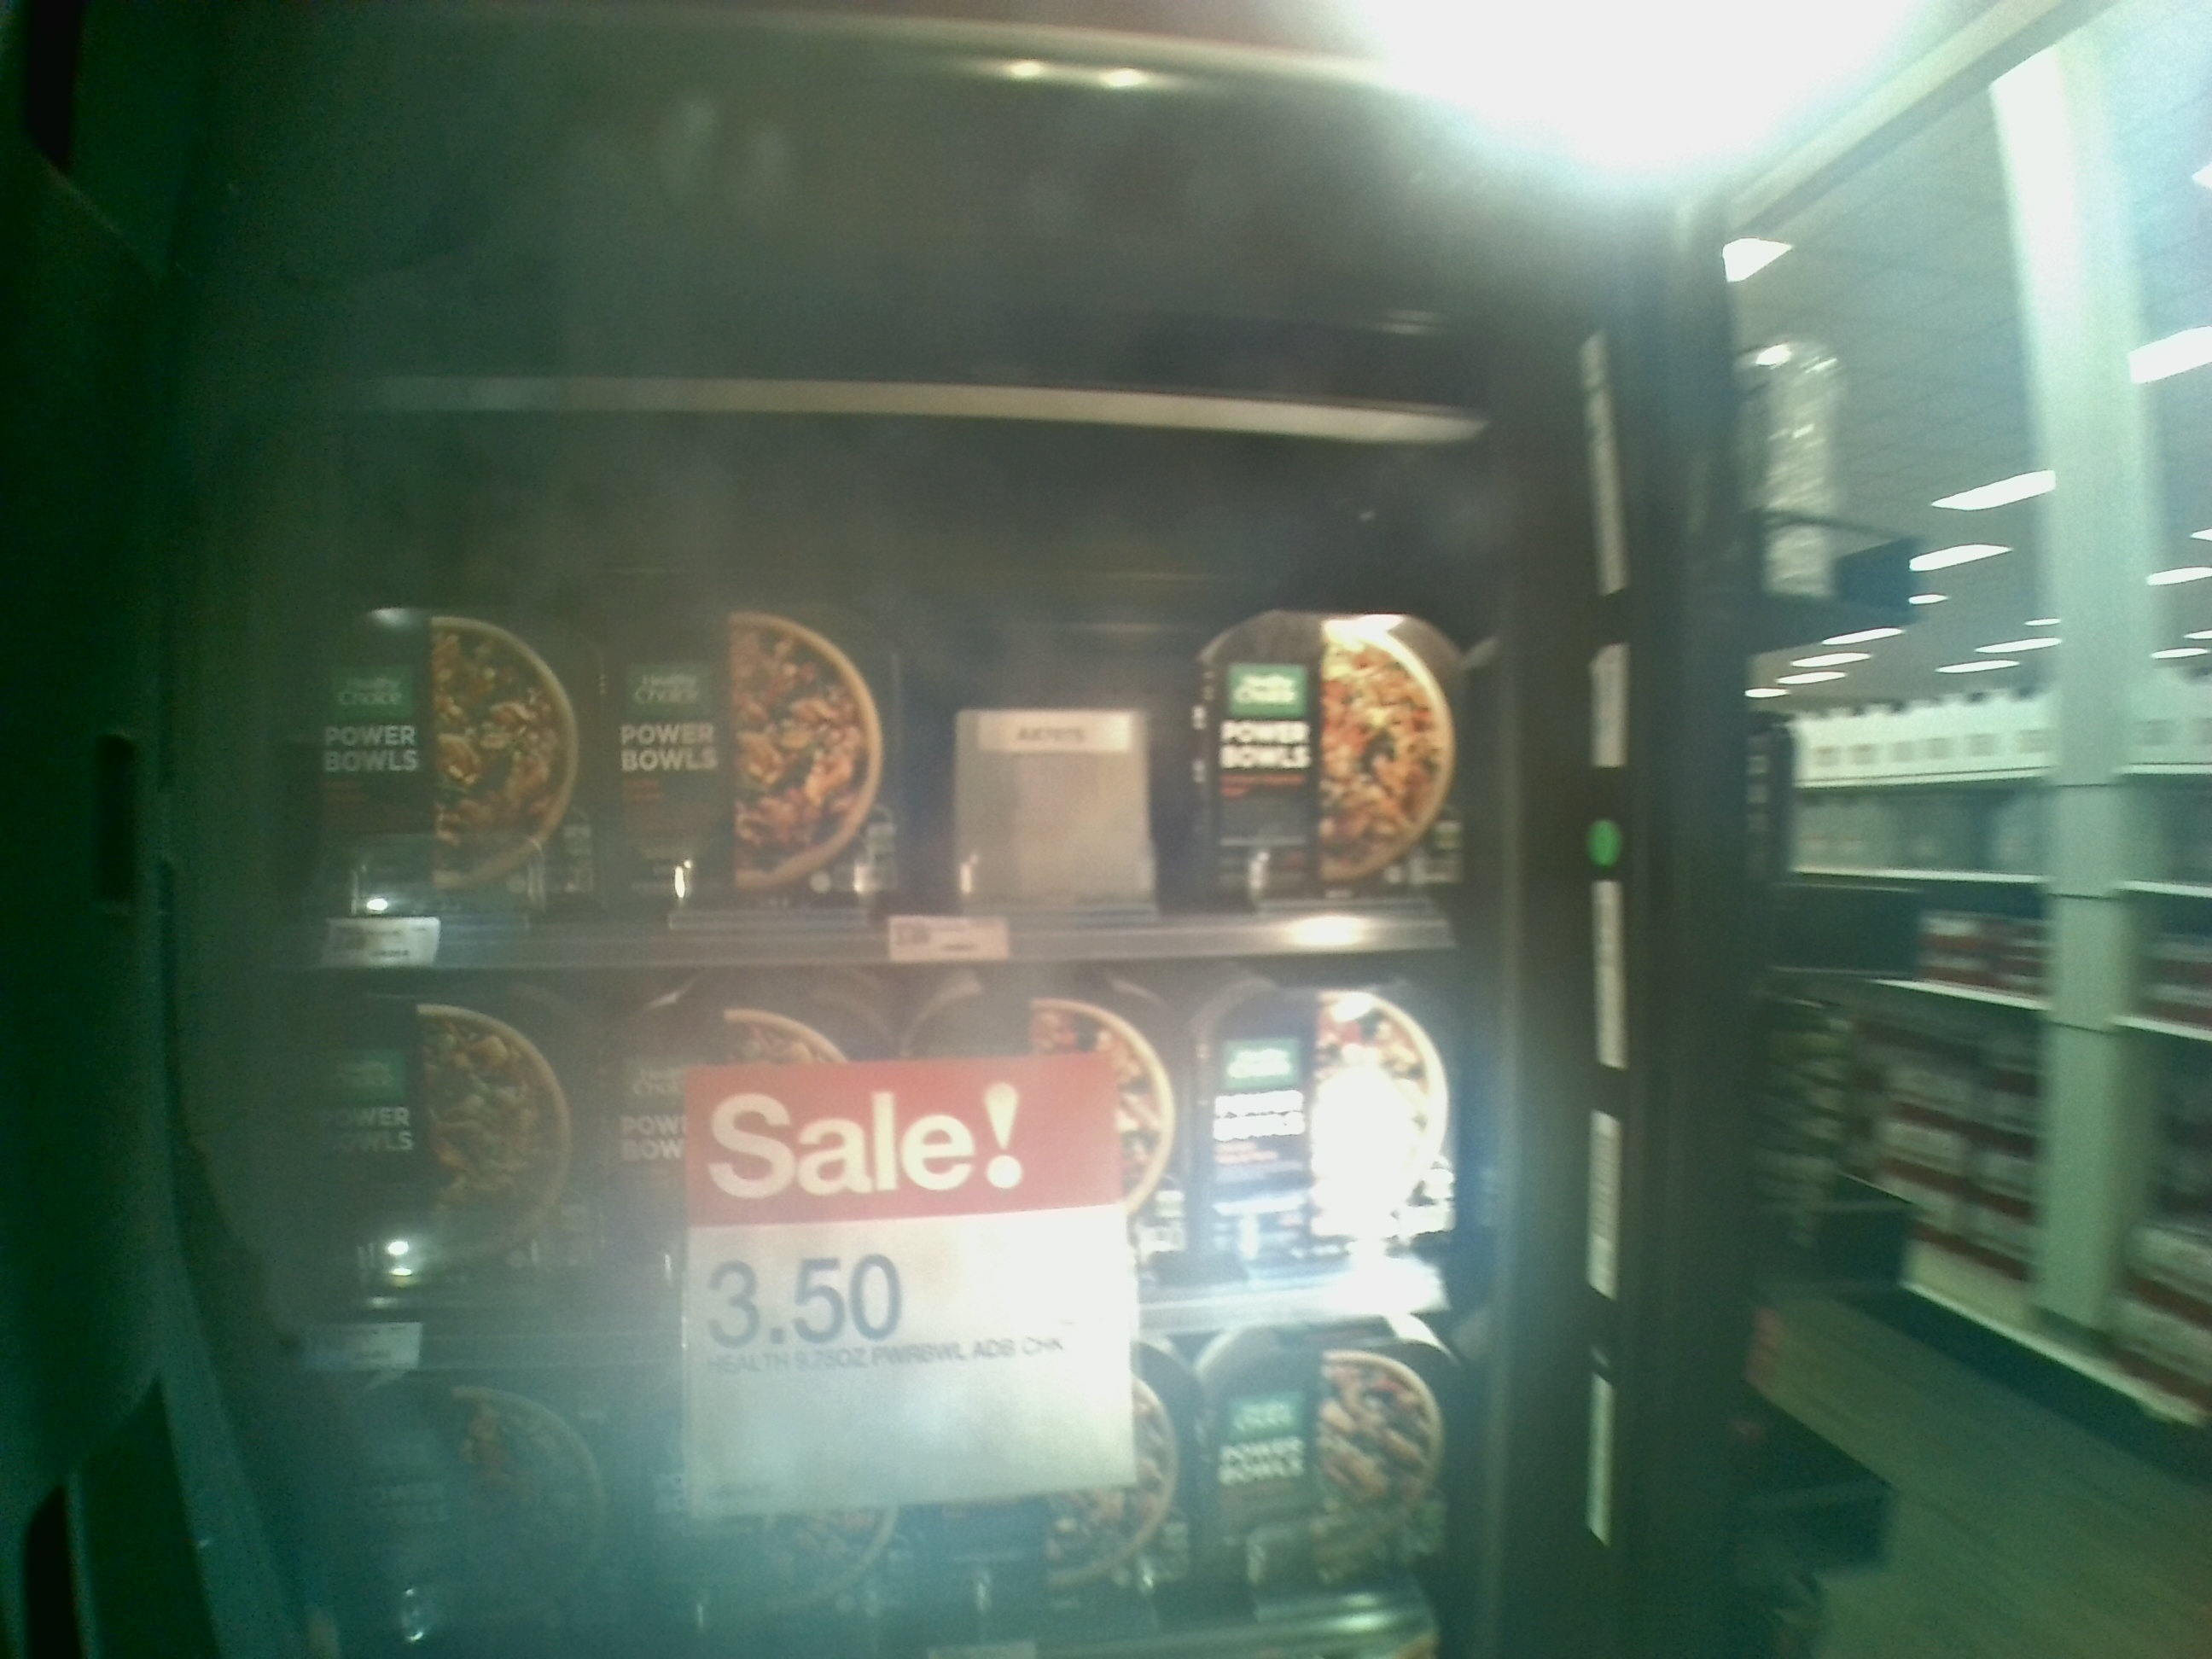shelf: (247, 382, 1446, 950)
